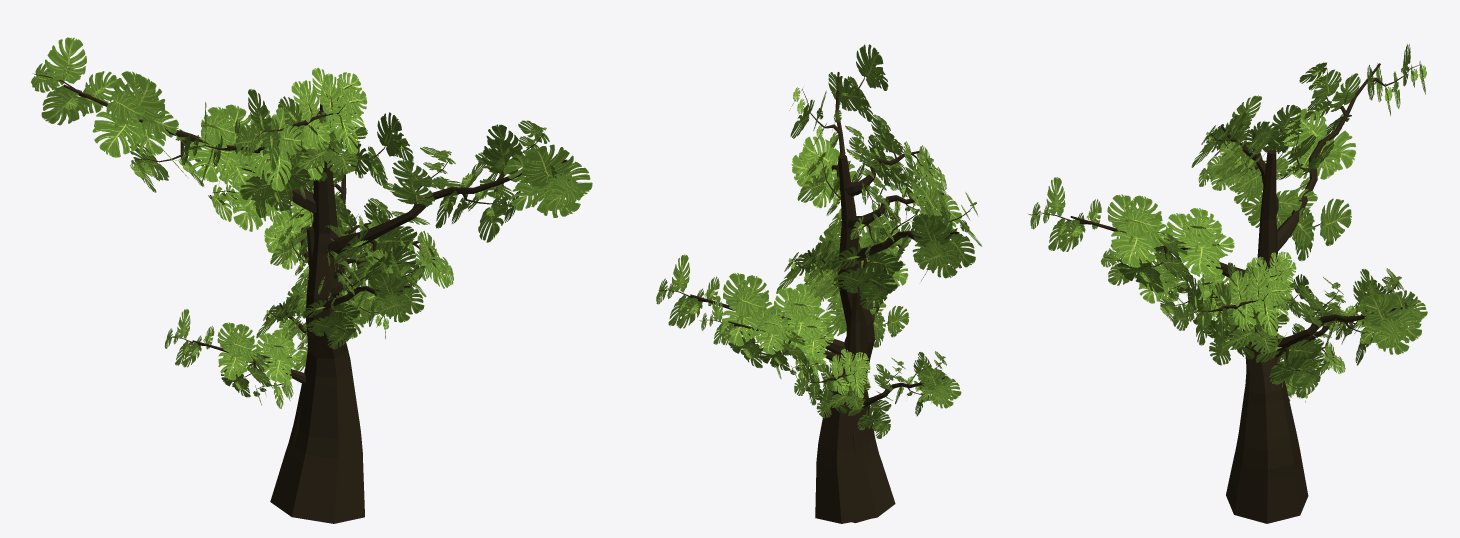
The model's file is TreeAnB.obj.
3 views of the same model, side by side, from view 1: azimuth 30°, elevation 25°; view 2: azimuth 150°, elevation 25°; view 3: azimuth 270°, elevation 25° (orthographic). The views are drawn at different scales.
Parts seen in each view (by area): view 1: TreeV2_2:Mesh HouTree, HouTree TreeV2:Mesh, Mesh HouTree1, HouTree1 Mesh1; view 2: TreeV2_2:Mesh HouTree, Mesh HouTree1, HouTree TreeV2:Mesh, HouTree1 Mesh1; view 3: TreeV2_2:Mesh HouTree, HouTree TreeV2:Mesh, Mesh HouTree1, HouTree1 Mesh1.
Part boxes in pixels (box(x1,y1,x2,y2)): TreeV2_2:Mesh HouTree: box(31, 37, 592, 339); HouTree TreeV2:Mesh: box(34, 74, 577, 523); Mesh HouTree1: box(164, 164, 426, 408); HouTree1 Mesh1: box(168, 200, 418, 448); TreeV2_2:Mesh HouTree: box(656, 44, 982, 381); Mesh HouTree1: box(699, 215, 961, 438); HouTree TreeV2:Mesh: box(658, 72, 972, 523); HouTree1 Mesh1: box(702, 228, 948, 522); TreeV2_2:Mesh HouTree: box(1027, 44, 1426, 398); HouTree TreeV2:Mesh: box(1032, 63, 1419, 523); Mesh HouTree1: box(1100, 236, 1427, 402); HouTree1 Mesh1: box(1103, 257, 1420, 388).
Size of the model in its own units: 13.93 by 15.64 by 14.42.
2 materials, 1 textured.
